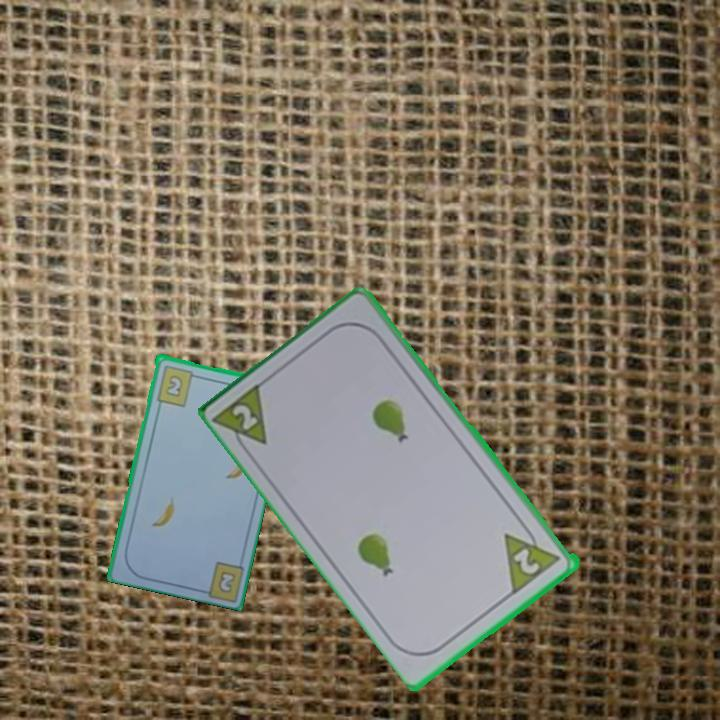2b: (153, 362, 201, 409), (214, 567, 238, 596)
2p: (510, 544, 544, 578), (229, 400, 262, 434)
